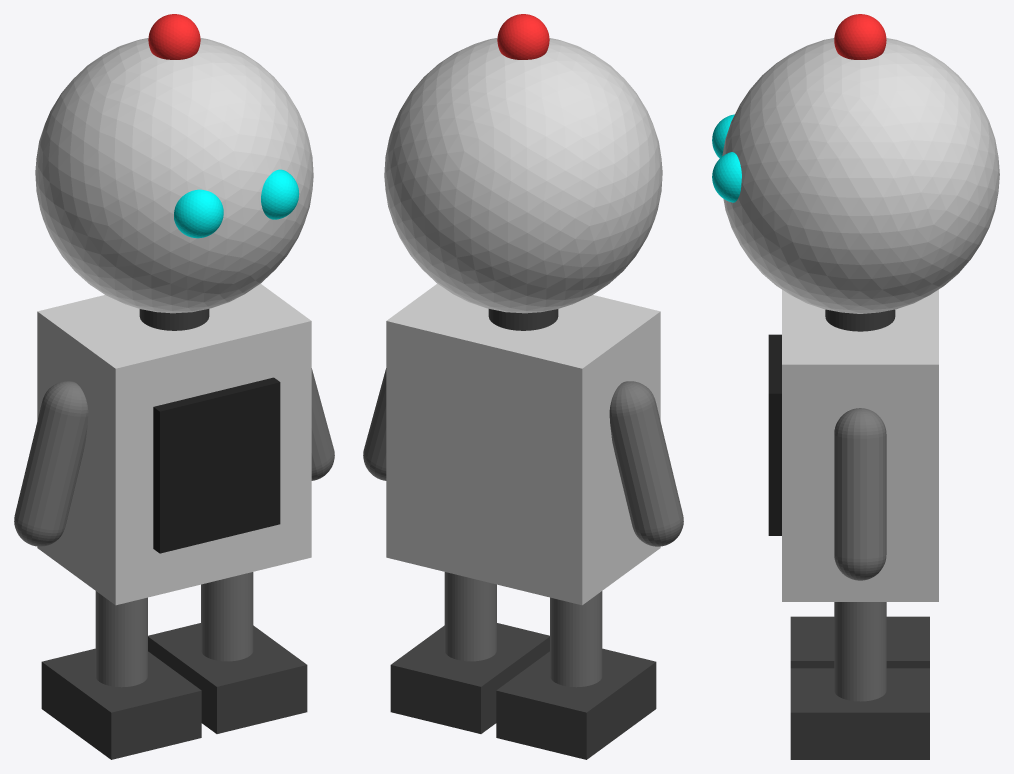
The model's file is ai_parts_16b170.glb.
3 views of the same model, side by side, from view 1: azimuth 30°, elevation 25°; view 2: azimuth 150°, elevation 25°; view 3: azimuth 270°, elevation 25° (orthographic).
Parts seen in each view (by area): view 1: 09_head, 04_torso, 05_belly_screen, 00_left_foot, 01_right_foot, 06_left_arm, 02_left_leg, 03_right_leg, 13_antenna_ball, 10_left_eye, 07_right_arm, 11_right_eye (+1 smaller); view 2: 04_torso, 09_head, 00_left_foot, 01_right_foot, 06_left_arm, 02_left_leg, 03_right_leg, 13_antenna_ball, 07_right_arm, 08_neck; view 3: 09_head, 04_torso, 01_right_foot, 07_right_arm, 03_right_leg, 00_left_foot, 05_belly_screen, 13_antenna_ball, 08_neck, 11_right_eye, 10_left_eye.
Part boxes in pixels (x1=…): 09_head: x1=35, y1=37, x2=313, y2=313; 04_torso: x1=37, y1=283, x2=311, y2=605; 05_belly_screen: x1=153, y1=377, x2=280, y2=553; 00_left_foot: x1=41, y1=648, x2=201, y2=759; 01_right_foot: x1=148, y1=623, x2=307, y2=733; 06_left_arm: x1=14, y1=381, x2=88, y2=546; 02_left_leg: x1=95, y1=591, x2=147, y2=687; 03_right_leg: x1=201, y1=572, x2=253, y2=661; 13_antenna_ball: x1=148, y1=14, x2=200, y2=59; 10_left_eye: x1=174, y1=189, x2=223, y2=238; 07_right_arm: x1=311, y1=368, x2=334, y2=480; 11_right_eye: x1=261, y1=169, x2=299, y2=219; 04_torso: x1=386, y1=283, x2=660, y2=605; 09_head: x1=384, y1=37, x2=662, y2=313; 00_left_foot: x1=496, y1=648, x2=656, y2=759; 01_right_foot: x1=390, y1=623, x2=549, y2=733; 06_left_arm: x1=609, y1=381, x2=683, y2=546; 02_left_leg: x1=550, y1=591, x2=602, y2=687; 03_right_leg: x1=444, y1=572, x2=496, y2=661; 13_antenna_ball: x1=497, y1=14, x2=549, y2=59; 07_right_arm: x1=363, y1=368, x2=386, y2=480; 08_neck: x1=488, y1=309, x2=558, y2=330; 09_head: x1=722, y1=38, x2=999, y2=313; 04_torso: x1=782, y1=289, x2=938, y2=601; 01_right_foot: x1=790, y1=668, x2=929, y2=759; 07_right_arm: x1=834, y1=408, x2=886, y2=580; 03_right_leg: x1=834, y1=602, x2=886, y2=701; 00_left_foot: x1=790, y1=616, x2=929, y2=668; 05_belly_screen: x1=768, y1=334, x2=781, y2=535; 13_antenna_ball: x1=834, y1=14, x2=886, y2=59; 08_neck: x1=825, y1=309, x2=895, y2=331; 11_right_eye: x1=712, y1=152, x2=741, y2=202; 10_left_eye: x1=712, y1=114, x2=734, y2=158.
Bounding box in the file's own units: 41.62 × 88 × 33.
